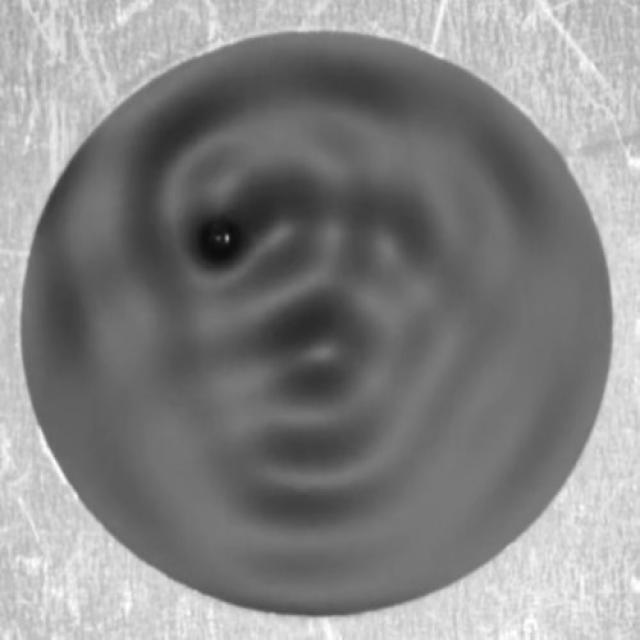droplet: (202, 220, 239, 265)
